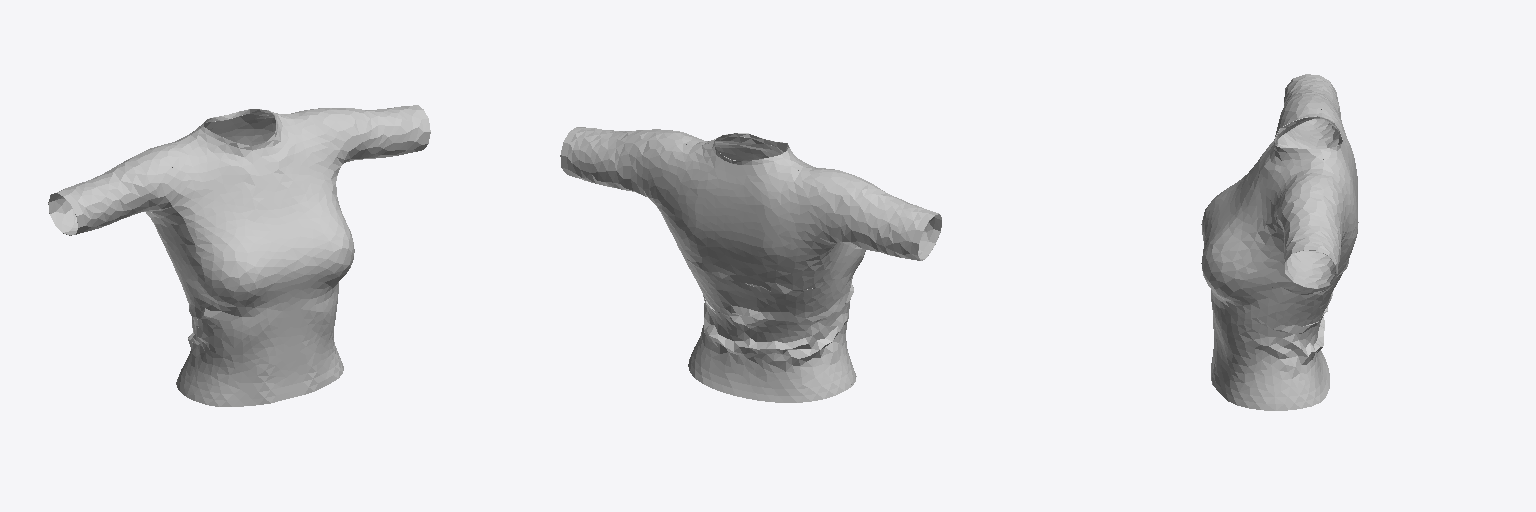
File: shirt-2.obj
3 renders of one model, left to right at view 1: azimuth 30°, elevation 25°; view 2: azimuth 150°, elevation 25°; view 3: azimuth 270°, elevation 25°, orthographic.
Size of the model in its own units: 71.06 by 46.58 by 26.79.